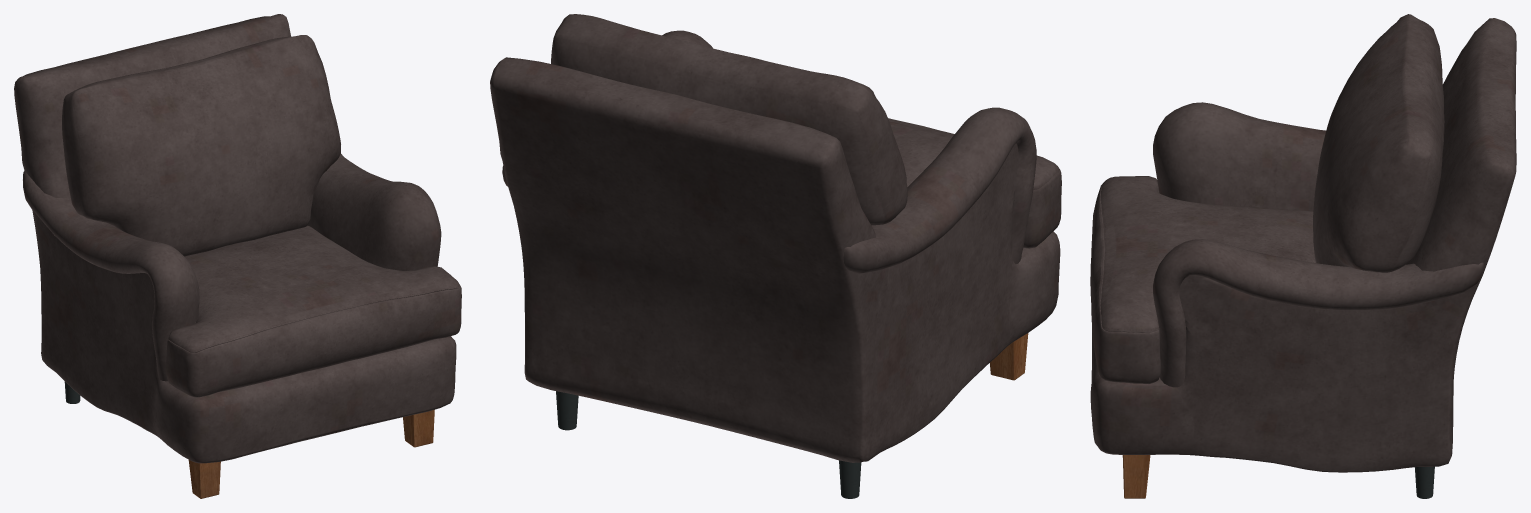
Rendered from office_chair_B07B4FZGW8.glb.
The picture shows the model from 3 angles, left to right: view 1: azimuth 30°, elevation 25°; view 2: azimuth 150°, elevation 25°; view 3: azimuth 270°, elevation 25°; orthographic projection. The views are drawn at different scales.
Parts seen in each view (by area): view 1: RootNode; view 2: RootNode; view 3: RootNode.
Part boxes in pixels (x1,y1,x2,y2): RootNode: [14, 14, 461, 498]; RootNode: [490, 14, 1061, 498]; RootNode: [1090, 14, 1516, 498].
Size of the model in its own units: 0.9555 by 0.9966 by 1.07.
1 material, 1 textured.
